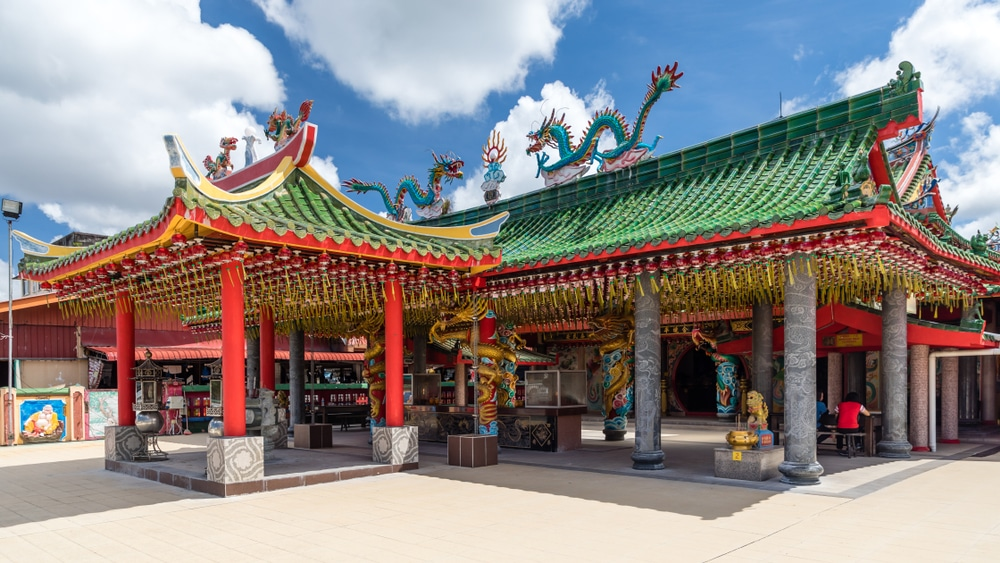Buddhist Temple: (71, 67, 948, 444)
